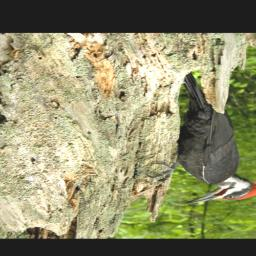Woodpecker: (146, 70, 256, 205)
